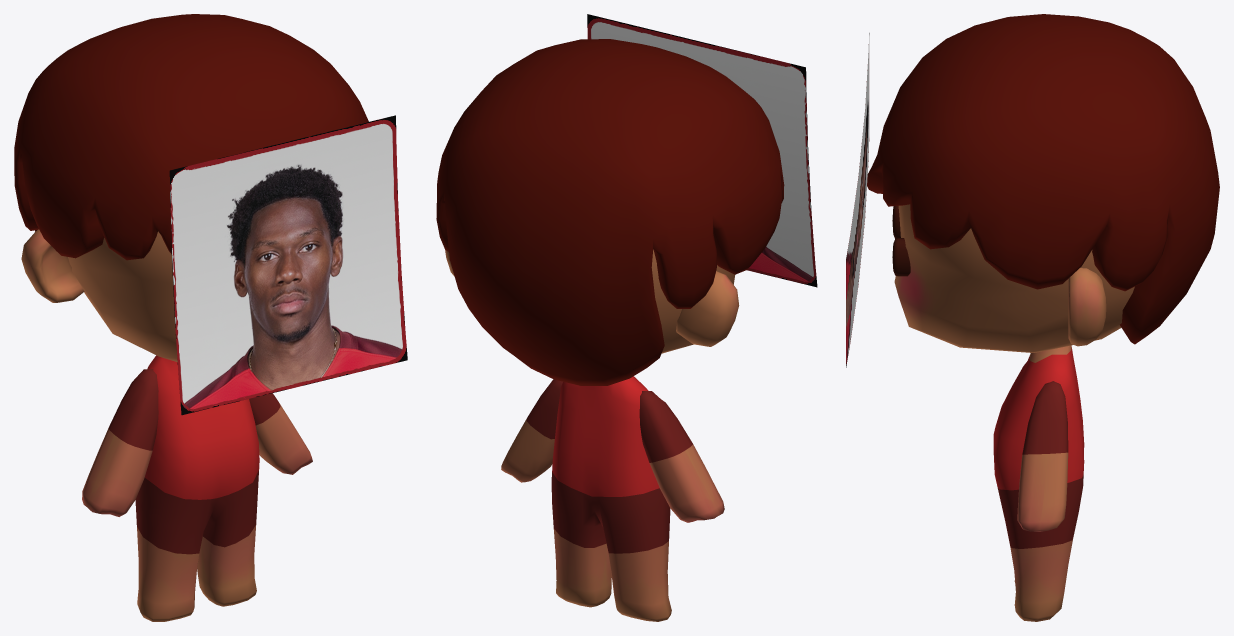
File: canadaIdle.glb
3 views of the same model, side by side, from view 1: azimuth 30°, elevation 25°; view 2: azimuth 150°, elevation 25°; view 3: azimuth 270°, elevation 25° (orthographic). The views are drawn at different scales.
Parts seen in each view (by area): view 1: post.003, body.060, body.057, body.054, body.058, body.059, body.055; view 2: body.060, body.057, post.003, body.058, body.059, body.055, body.054; view 3: body.060, body.054, body.057, body.059, post.003, body.056, body.062.
Part boxes in pixels (<box>): post.003: <box>169,115,407,415</box>; body.060: <box>14,14,368,260</box>; body.057: <box>135,355,259,621</box>; body.054: <box>68,231,177,362</box>; body.058: <box>82,369,158,516</box>; body.059: <box>249,393,312,474</box>; body.055: <box>21,229,84,302</box>; body.060: <box>436,39,784,385</box>; body.057: <box>551,376,671,621</box>; post.003: <box>587,14,817,287</box>; body.058: <box>639,391,724,522</box>; body.059: <box>501,379,562,482</box>; body.055: <box>676,271,739,346</box>; body.054: <box>651,249,734,353</box>; body.060: <box>867,14,1219,344</box>; body.054: <box>894,204,1134,352</box>; body.057: <box>993,345,1084,621</box>; body.059: <box>1017,381,1068,531</box>; post.003: <box>846,33,869,367</box>; body.056: <box>1068,268,1106,346</box>; body.062: <box>892,238,910,276</box>.
Size of the model in its own units: 9.98 by 18.05 by 10.86.
Materials: 7 (2 with a texture image).
